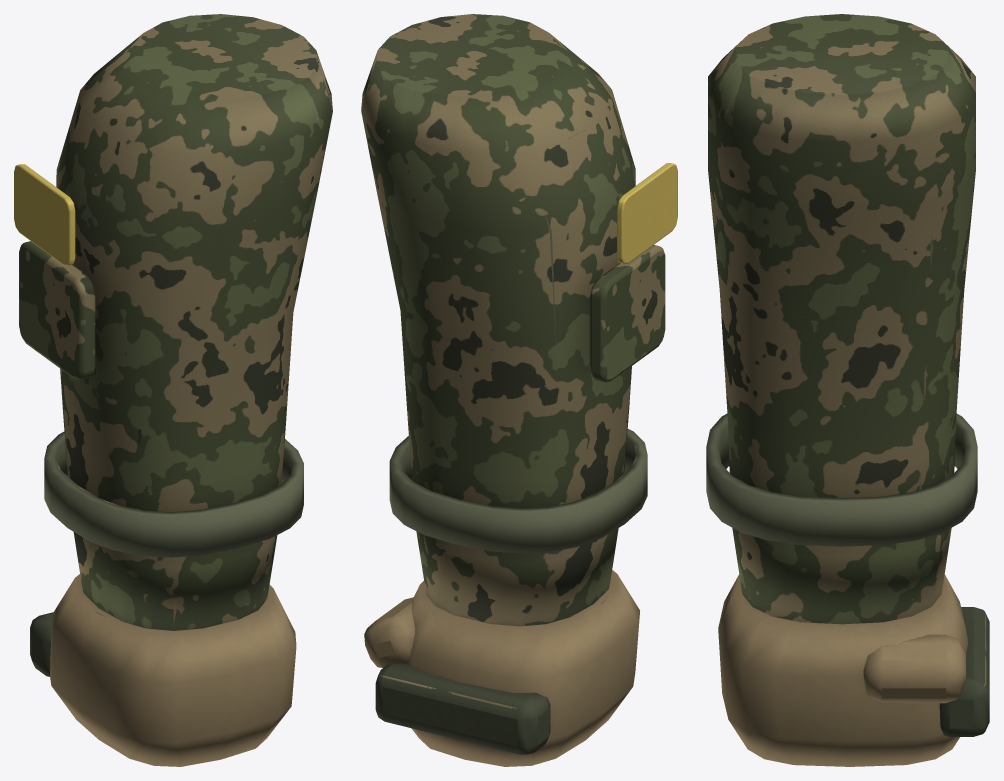
File: Alpha_Arm_L.glb
3 views of the same model, side by side, from view 1: azimuth 30°, elevation 25°; view 2: azimuth 150°, elevation 25°; view 3: azimuth 270°, elevation 25° (orthographic). The views are drawn at different scales.
Visible parts, largest first — view 1: Alpha_Arm_L_body; view 2: Alpha_Arm_L_body; view 3: Alpha_Arm_L_body.
Boxes of the visible parts, box(x1,y1,x2,y2) form: Alpha_Arm_L_body: box(14, 14, 332, 766); Alpha_Arm_L_body: box(361, 14, 677, 766); Alpha_Arm_L_body: box(706, 14, 989, 766).
Size of the model in its own units: 0.84 by 1.94 by 0.71.
Materials: 1 (1 with a texture image).
